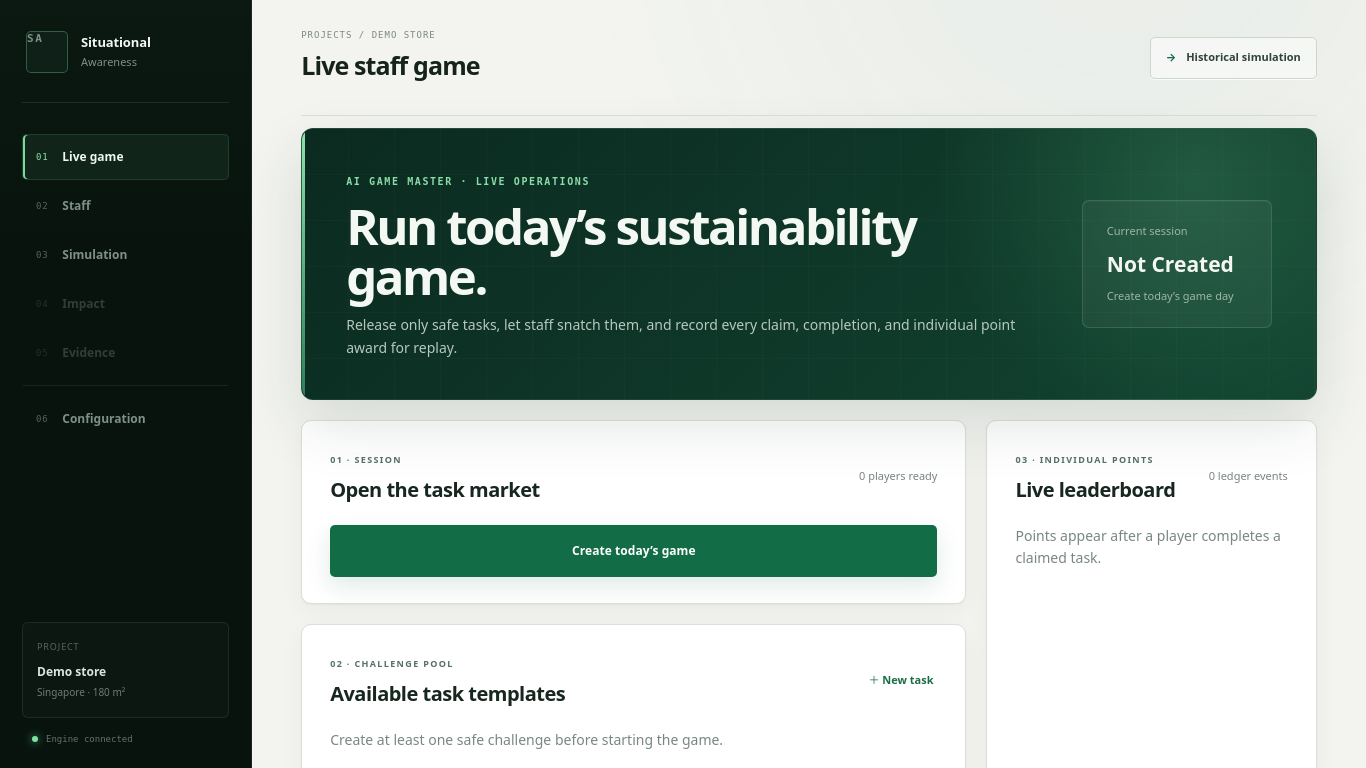
Scenario: application startup › keeps a newly created run selected while stale history refreshes
This screenshot has width=1366, height=768.
Check: the heading "Run today’s sustainability game." is shown, box [346,192,916,309]
Click the button "03 Simulation".
click(126, 255)  # box [22,232,229,278]
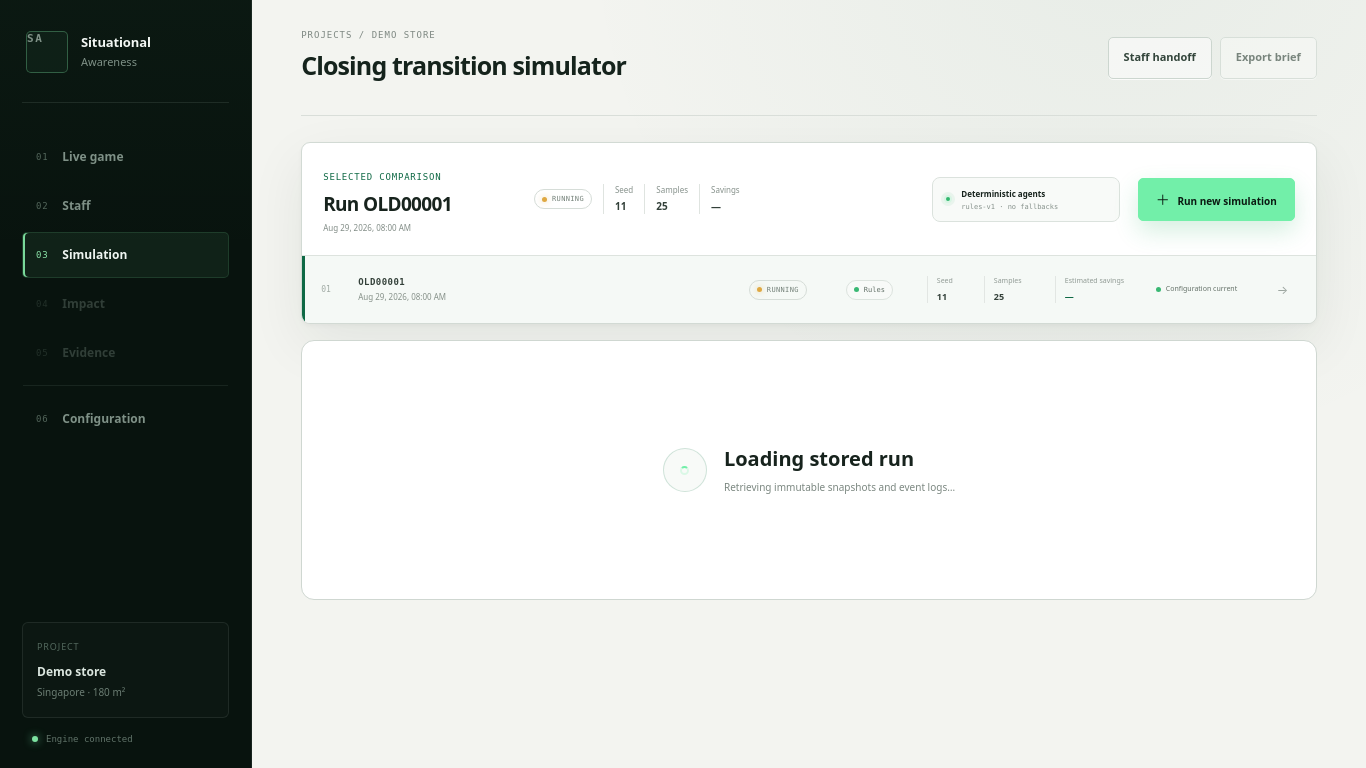
Check: the heading "Run OLD00001" is shown, box [323,191,452,217]
Click the button "＋ Run new simulation".
click(1216, 199)  # box [1138,178,1295,220]
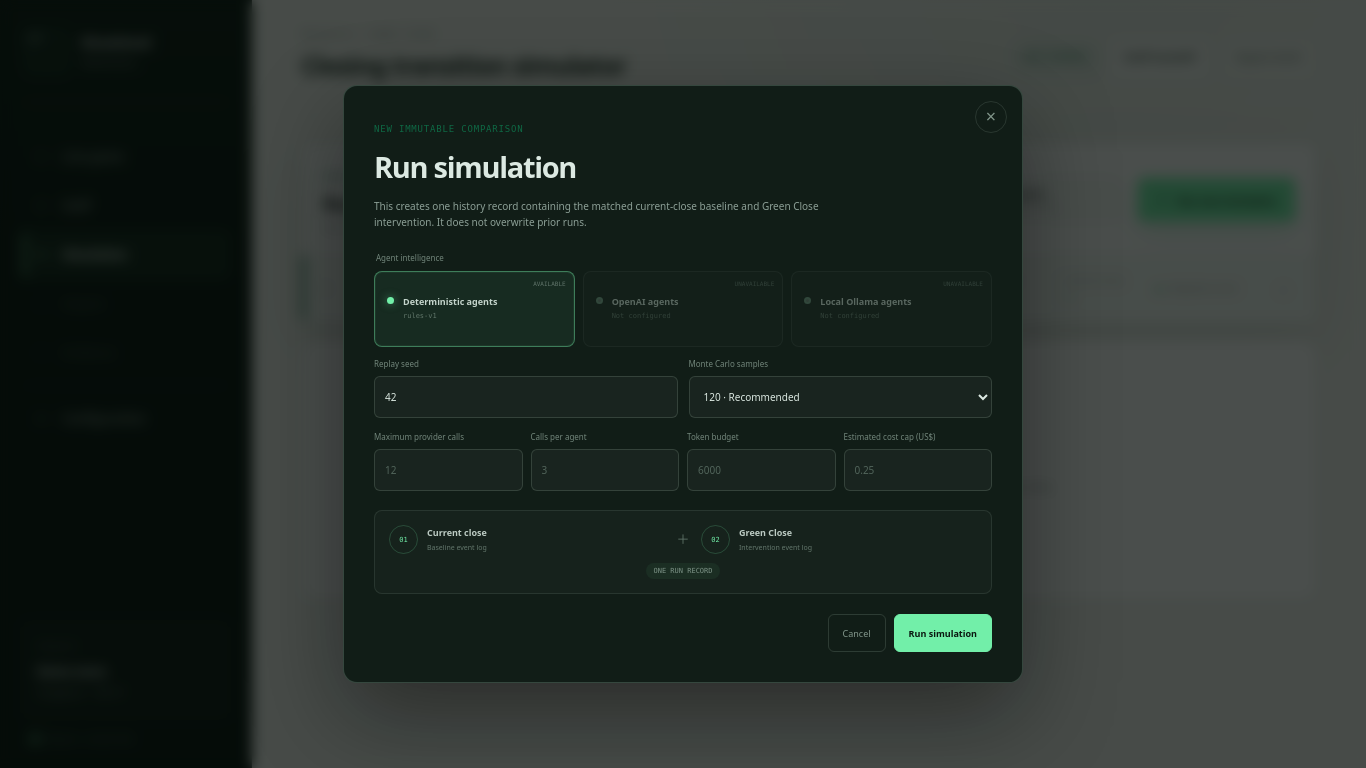
Click the submit button.
click(943, 633)  # box [894,614,992,652]
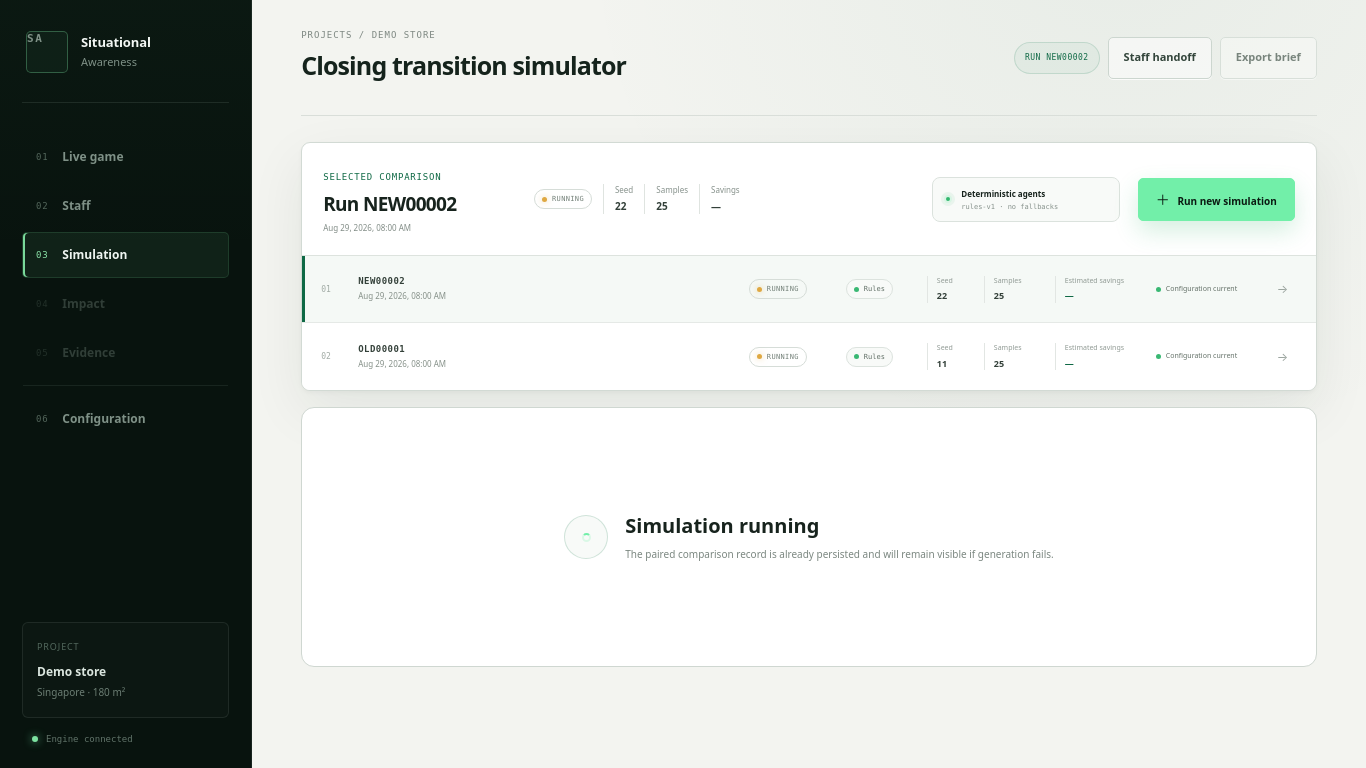
Check: the heading "Run NEW00002" is shown, box [323,191,456,217]
